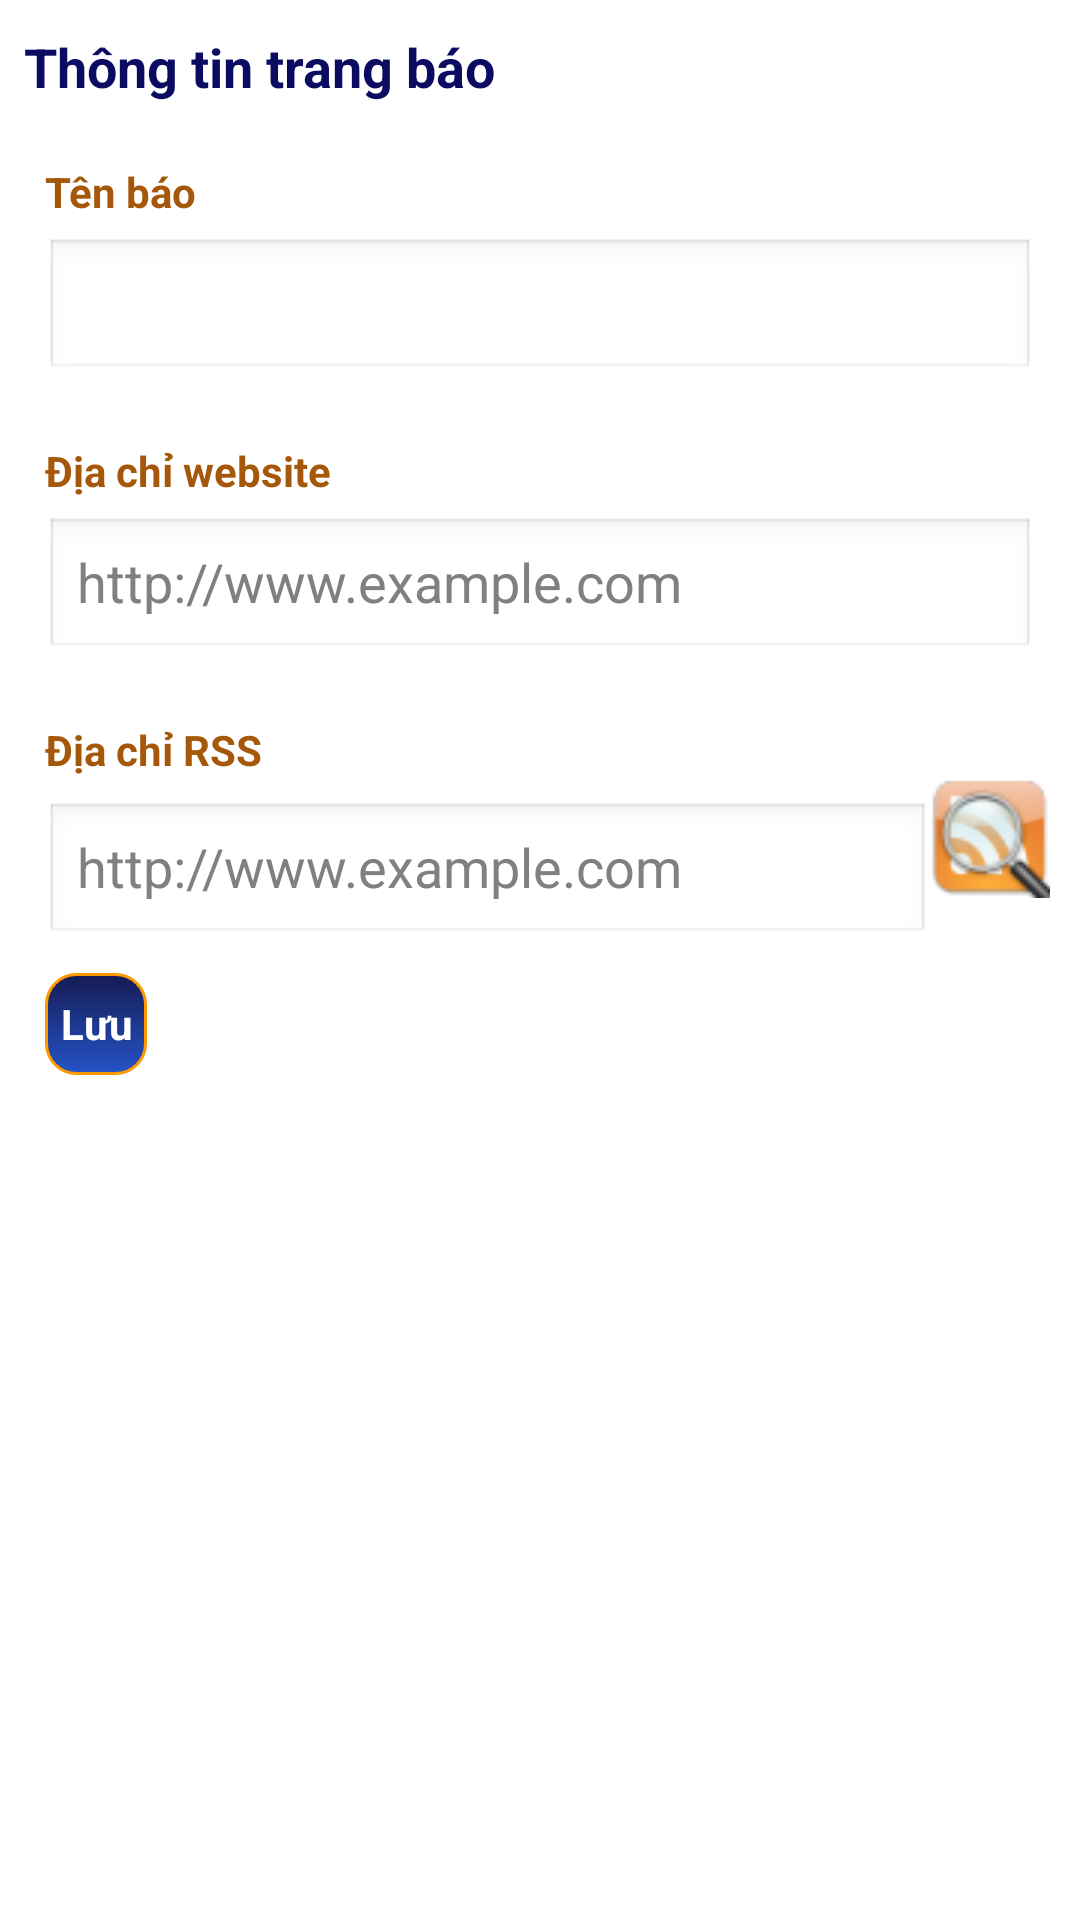

Screen size 1080x1920. Icon name, then its center in pixels as (x=x, y=y):
search: (x=991, y=839)
